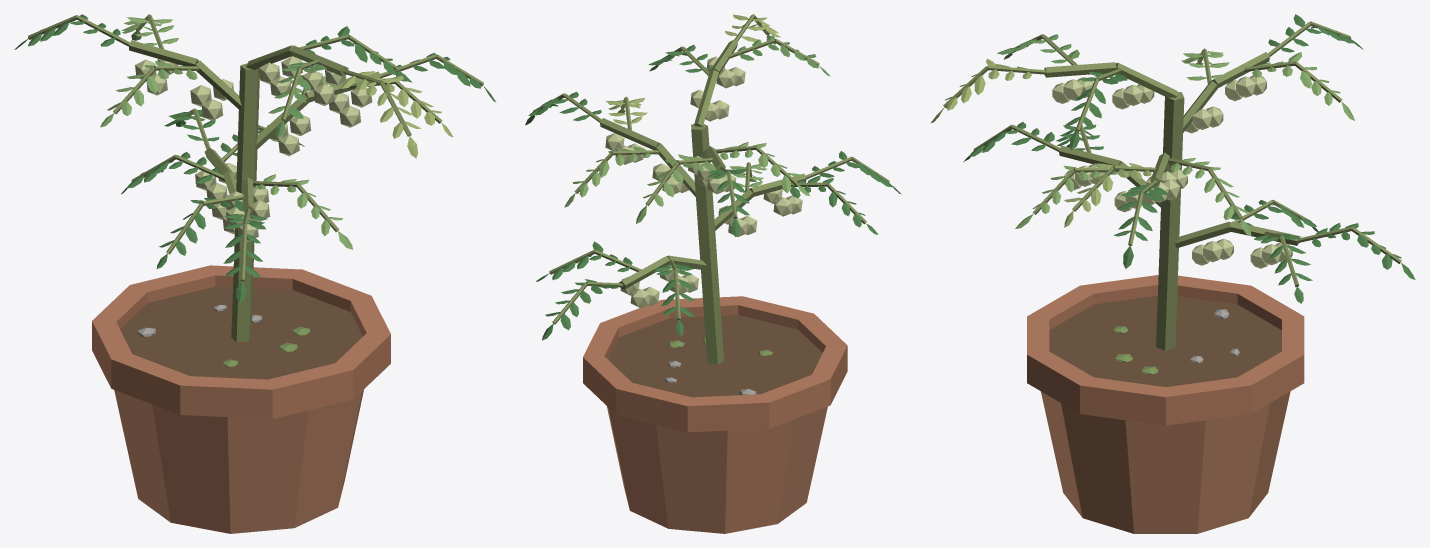
The model's file is amla.glb.
The picture shows the model from 3 angles, left to right: view 1: azimuth 30°, elevation 25°; view 2: azimuth 150°, elevation 25°; view 3: azimuth 270°, elevation 25°; orthographic projection. The views are drawn at different scales.
Visible parts, largest first — view 1: pot, plant; view 2: pot, plant; view 3: pot, plant.
Boxes of the visible parts, x1,y1,x2,y2 form: pot: (92, 265, 390, 533); plant: (14, 14, 495, 342); pot: (583, 296, 847, 533); plant: (525, 14, 901, 364); pot: (1027, 275, 1304, 533); plant: (931, 14, 1415, 350).
Size of the model in its own units: 0.5247 by 0.6386 by 0.6156.
